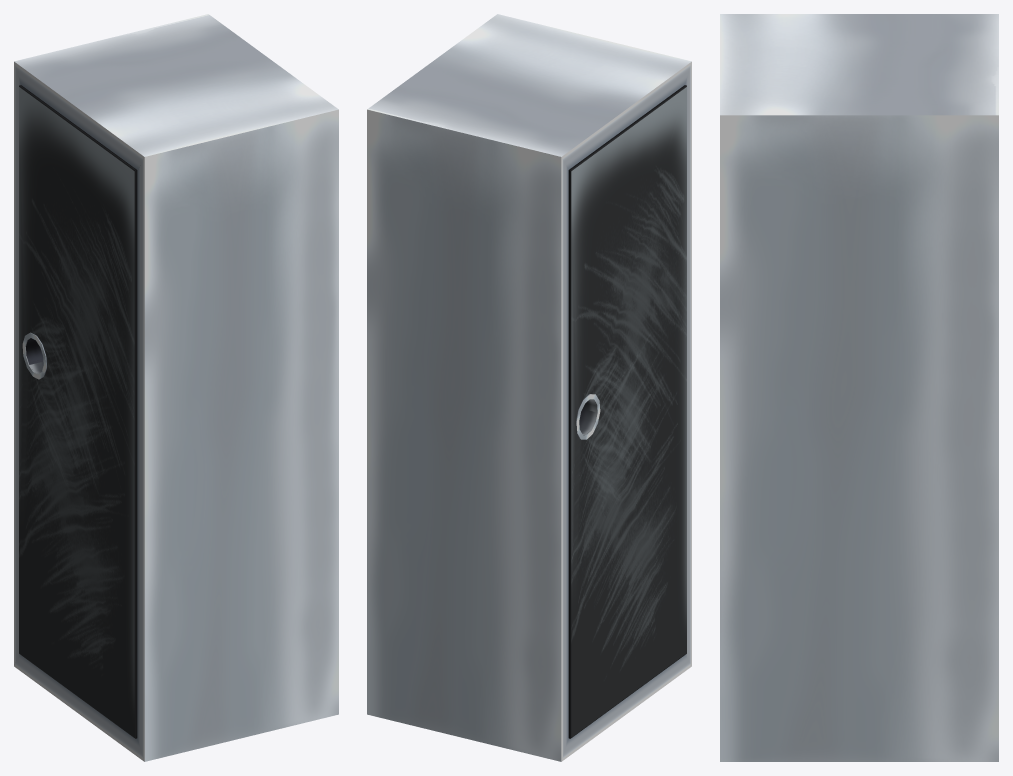
File: Safe.fbx
The picture shows the model from 3 angles, left to right: view 1: azimuth 30°, elevation 25°; view 2: azimuth 150°, elevation 25°; view 3: azimuth 270°, elevation 25°; orthographic projection. The views are drawn at different scales.
Visible parts, largest first — view 1: Box001; view 2: Box001; view 3: Box001.
Part boxes in pixels (box(x1,y1,x2,y2)): Box001: box(14, 14, 338, 761); Box001: box(367, 14, 691, 761); Box001: box(720, 14, 998, 761).
Bounding box in the file's own units: 33.84 × 98.96 × 38.69.
